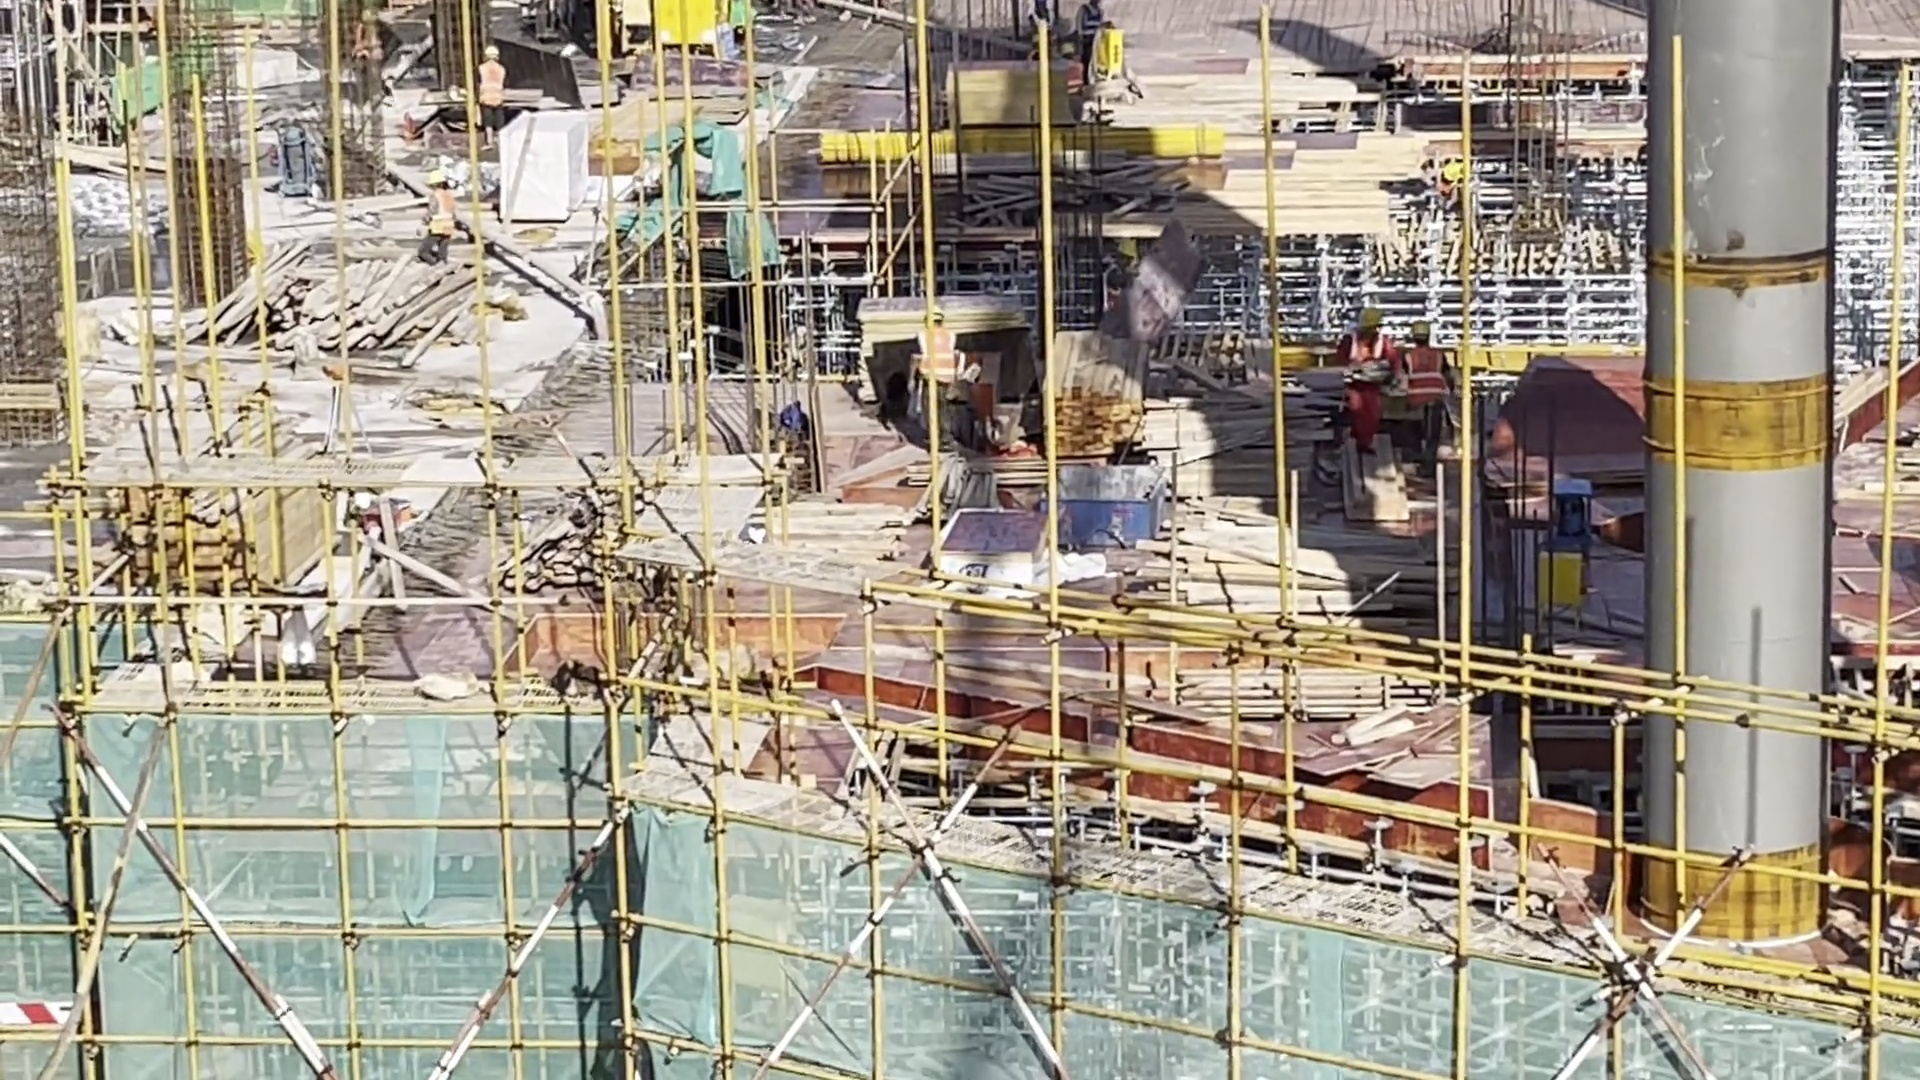board: (862, 293, 1033, 413), (951, 56, 1077, 130)
helmet: (1356, 303, 1392, 336), (1407, 318, 1434, 346), (1439, 160, 1463, 186), (425, 169, 450, 191), (480, 41, 503, 64)
hopper: (1047, 459, 1169, 553)
person: (1344, 297, 1402, 474), (909, 299, 968, 454), (1405, 311, 1456, 474), (1069, 1, 1142, 104), (1097, 233, 1145, 372), (420, 168, 472, 279), (472, 34, 515, 155), (1422, 148, 1470, 238), (355, 6, 394, 112)
vest: (917, 324, 962, 393), (1346, 338, 1391, 403), (1406, 346, 1450, 411), (478, 60, 510, 119), (430, 191, 459, 244), (1080, 3, 1109, 45)
wood: (1154, 520, 1461, 621), (111, 444, 322, 589), (1041, 314, 1145, 457), (1337, 432, 1419, 537)
